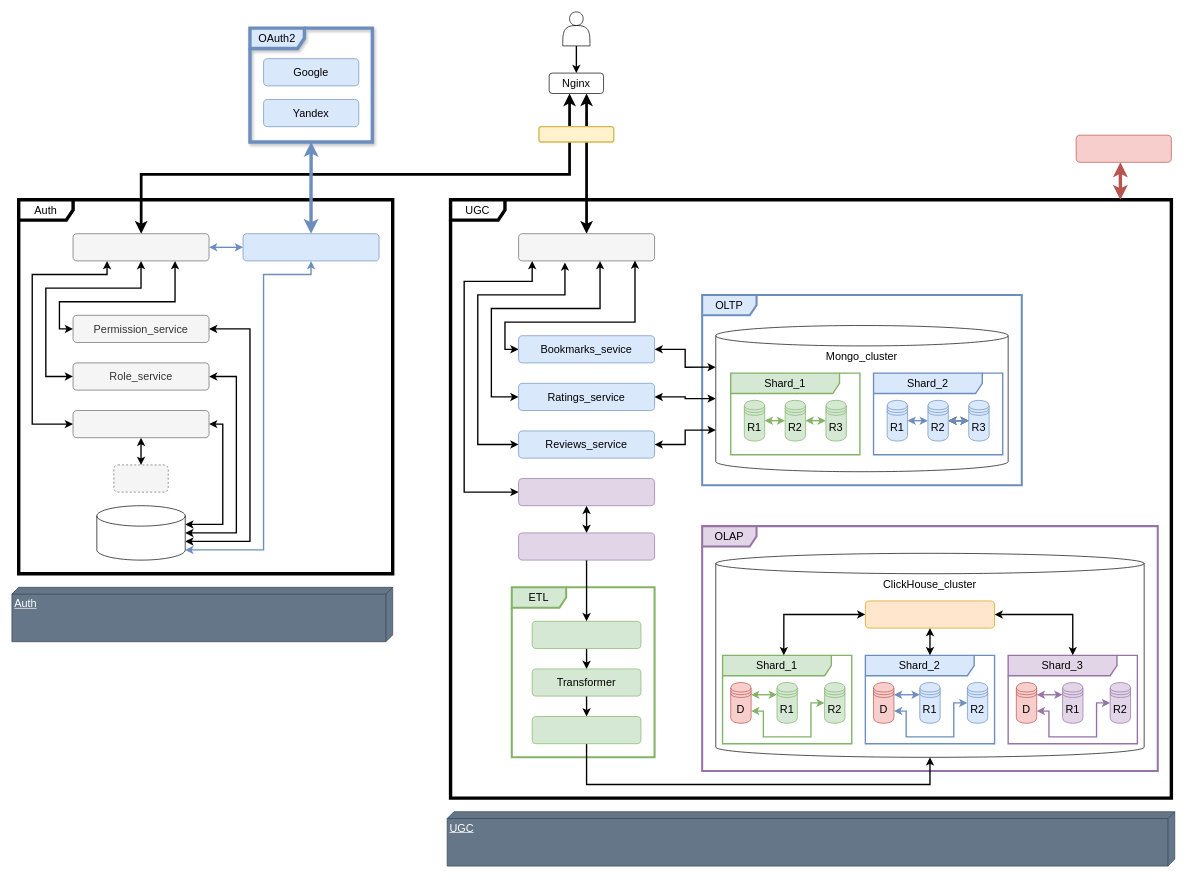
The diagram is 1187 pixels wide and 879 high, and some of its shapes have lost their labels. Each missing label, with the centre of its shape:
Auth_API: the point at 140,247
Auth_token: the point at 576,134
Cache: the point at 140,478
ELK: the point at 1123,148
Events_service: the point at 586,492
Extractor: the point at 586,635
Loader: the point at 586,730
OAuth_service: the point at 310,247
Producer_service: the point at 586,546
UGC_API: the point at 586,247
User_DB: the point at 140,532
User_service: the point at 140,424
Zookeeper: the point at 930,614
